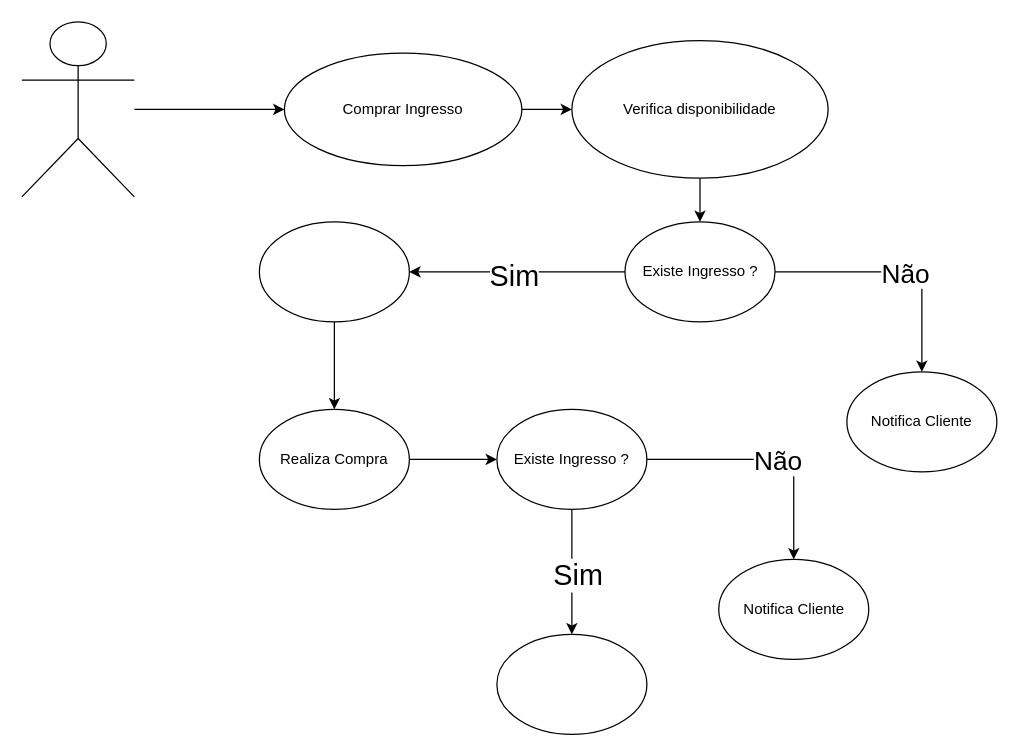
Image size: 1019x756. Some labels were removed from this diagram. The shapes that lost their labels are listed below. From the top down, each one's centre as x and y in pixels, then its label:
At pixel 77 109: "Actor".
At pixel 333 271: "Fila Virtual".
At pixel 571 683: "Finaliza Compra".
